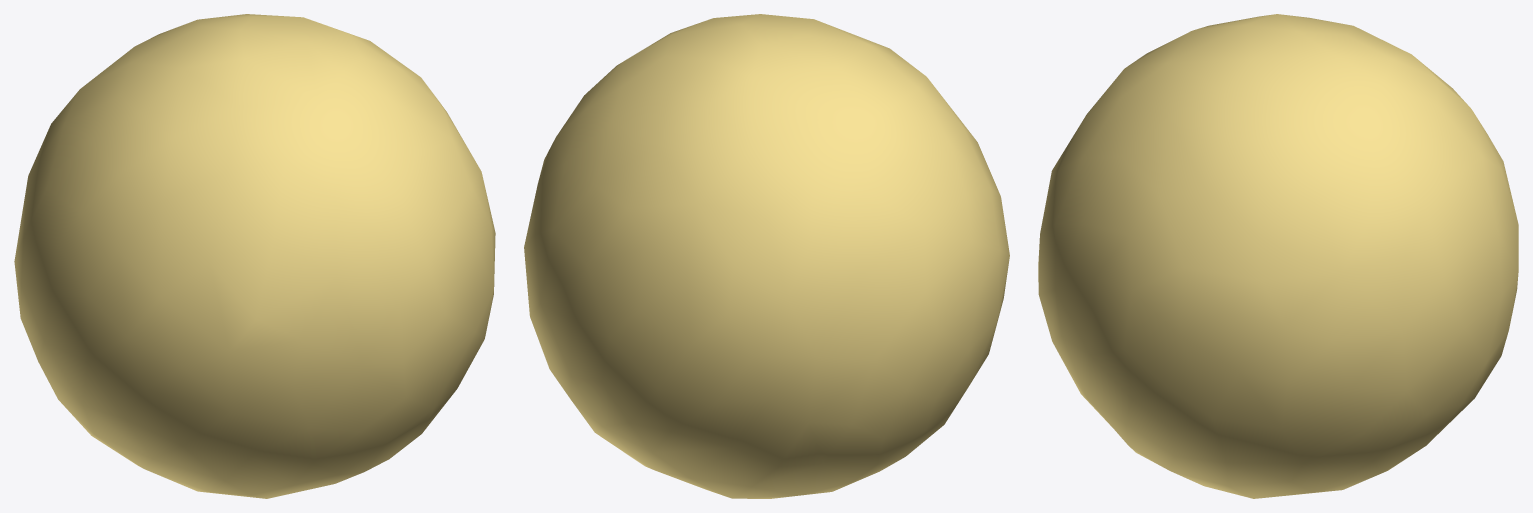
Rendered from fma77531-r_mm2598m.glb.
3 renders of one model, left to right at view 1: azimuth 30°, elevation 25°; view 2: azimuth 150°, elevation 25°; view 3: azimuth 270°, elevation 25°, orthographic.
Visible parts, largest first — view 1: FMA77531-R_MM2598M; view 2: FMA77531-R_MM2598M; view 3: FMA77531-R_MM2598M.
Part boxes in pixels (x1=…): FMA77531-R_MM2598M: x1=14, y1=14, x2=495, y2=498; FMA77531-R_MM2598M: x1=524, y1=14, x2=1009, y2=498; FMA77531-R_MM2598M: x1=1038, y1=14, x2=1518, y2=498.
Bounding box in the file's own units: 0.00208 × 0.00209 × 0.00207.
